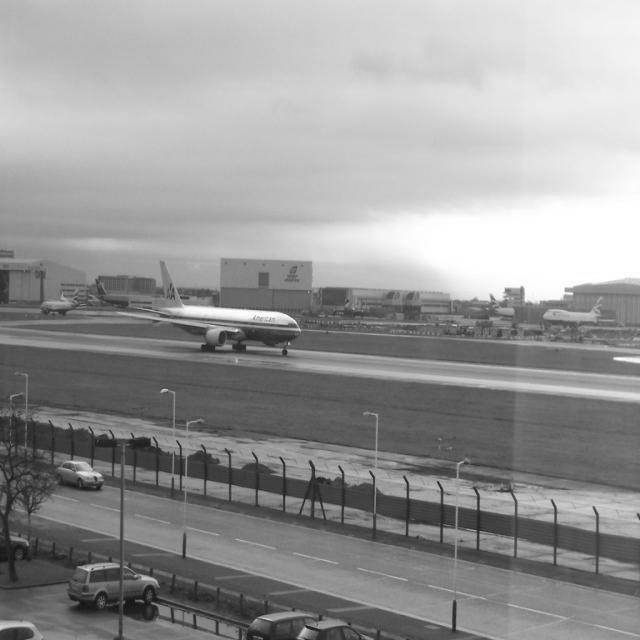aeroplane: (117, 259, 302, 353), (541, 290, 604, 324), (468, 291, 514, 317), (41, 294, 77, 317), (332, 299, 365, 317)
